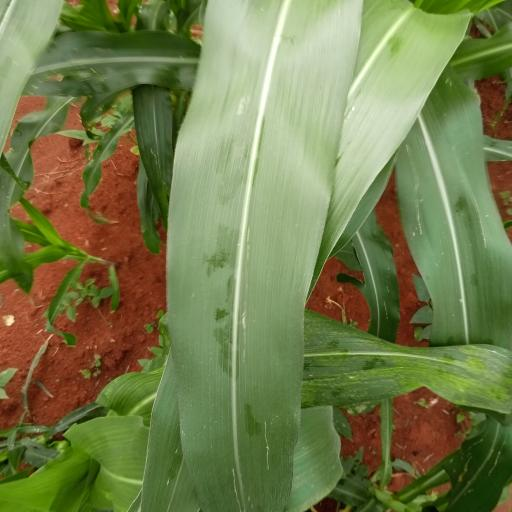Corn_Brown_Spots: (290, 313, 512, 412)
